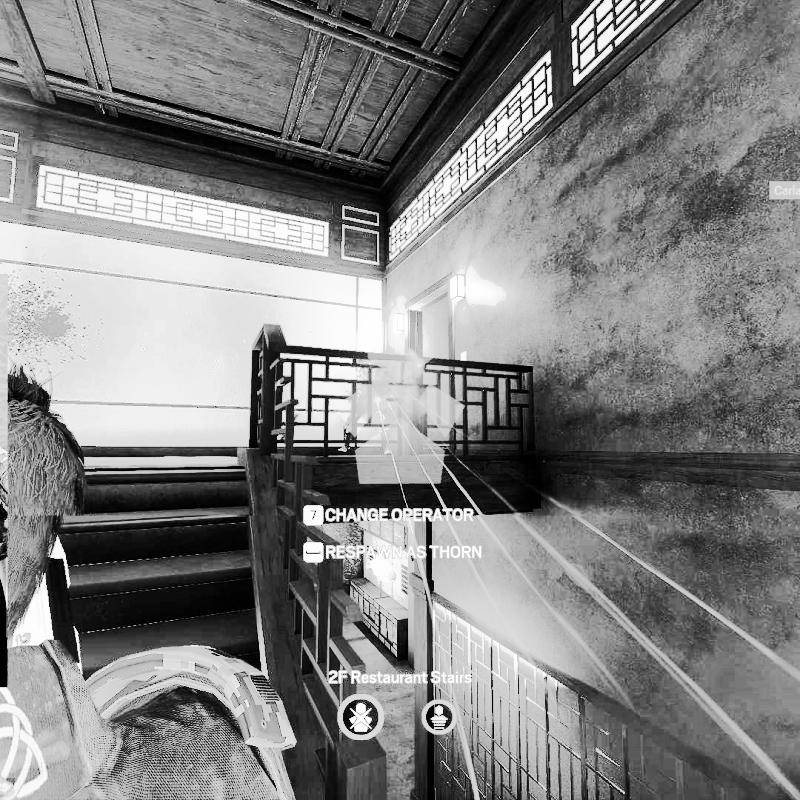Character: (0, 350, 292, 800), (338, 346, 402, 456)
Head: (0, 363, 81, 642)
